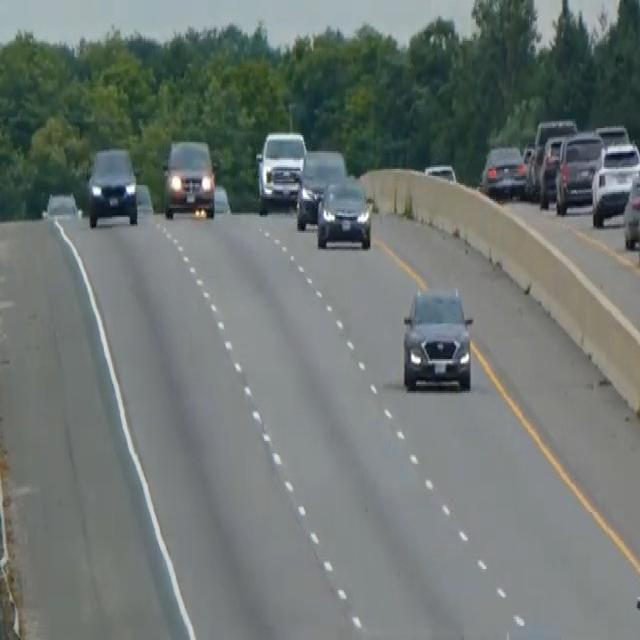car: (86, 144, 138, 228), (316, 174, 373, 249), (554, 128, 604, 213), (295, 148, 346, 230), (591, 138, 639, 225), (537, 132, 574, 208), (480, 142, 527, 199), (623, 167, 639, 249), (594, 121, 630, 147), (423, 160, 456, 183)
jeep: (399, 281, 475, 395), (254, 128, 307, 213)
minivan: (162, 137, 216, 220)
